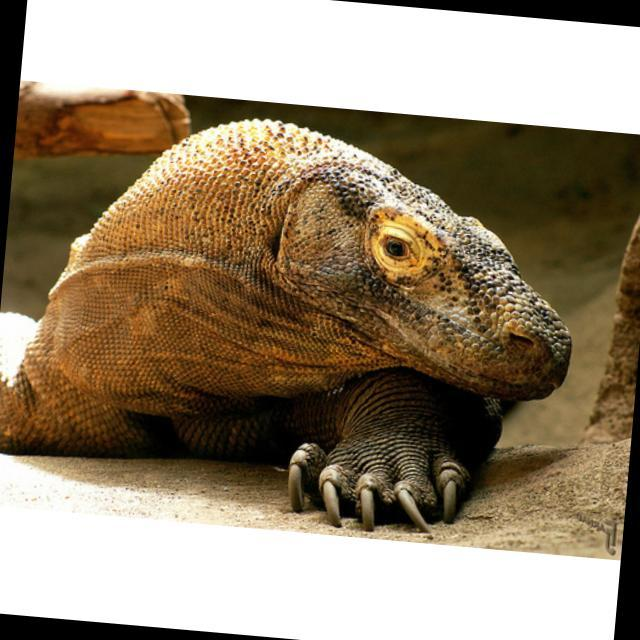KomodoDragon: (0, 97, 591, 548)
